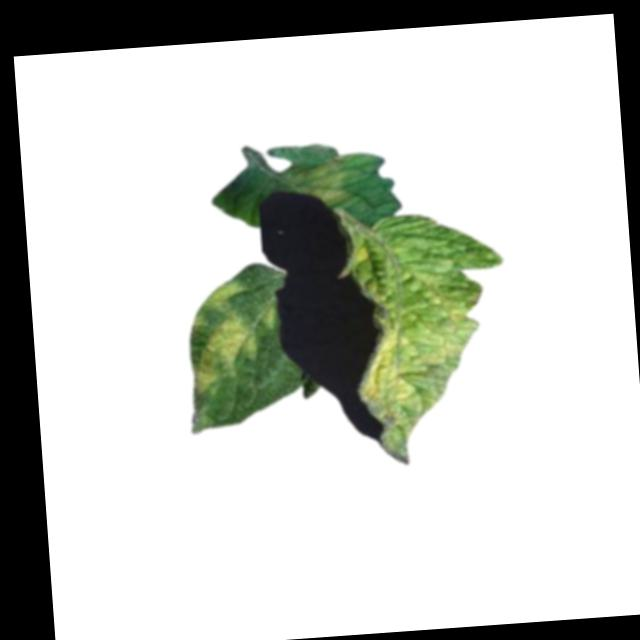Leaf_Mold: (351, 289, 482, 426), (183, 276, 259, 396), (290, 158, 349, 206)
